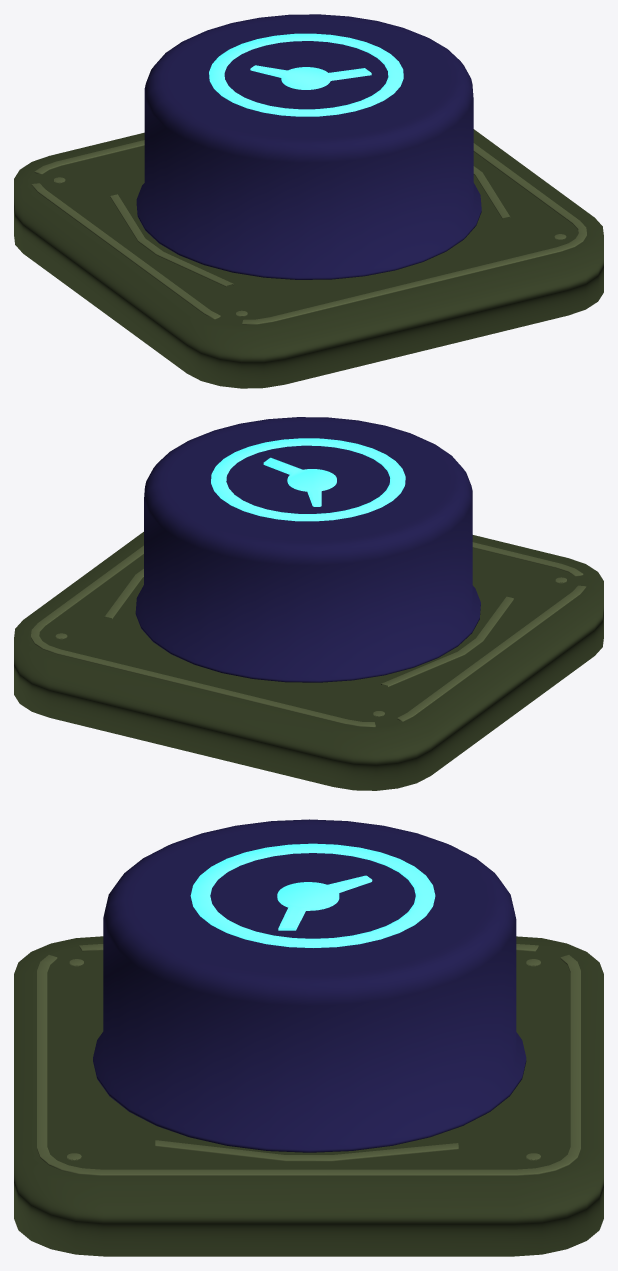
Rendered from clock.glb.
3 renders of one model, top to bottom at view 1: azimuth 30°, elevation 25°; view 2: azimuth 150°, elevation 25°; view 3: azimuth 270°, elevation 25°, orthographic. The views are drawn at different scales.
Parts seen in each view (by area): view 1: Circle, Cube, Cube.001, Circle.001; view 2: Circle, Cube, Cube.001, Circle.001; view 3: Circle, Cube, Cube.001, Circle.001.
Part boxes in pixels (box(x1,y1,x2,y2)): Circle: box(136, 14, 481, 279); Cube: box(14, 129, 603, 388); Cube.001: box(31, 140, 586, 324); Circle.001: box(209, 33, 403, 116); Circle: box(135, 417, 480, 682); Cube: box(14, 532, 603, 790); Cube.001: box(31, 542, 586, 727); Circle.001: box(211, 438, 405, 521); Circle: box(93, 819, 526, 1152); Cube: box(14, 936, 603, 1256); Cube.001: box(37, 944, 580, 1175); Circle.001: box(190, 843, 435, 947).
Bounding box in the file's own units: 2 × 0.8824 × 2.
